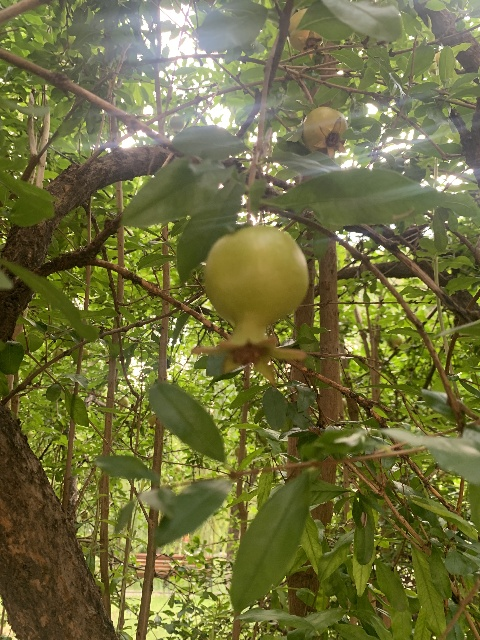early-fruit: (190, 225, 310, 390)
mid-growth: (191, 226, 311, 392), (301, 106, 348, 157)
